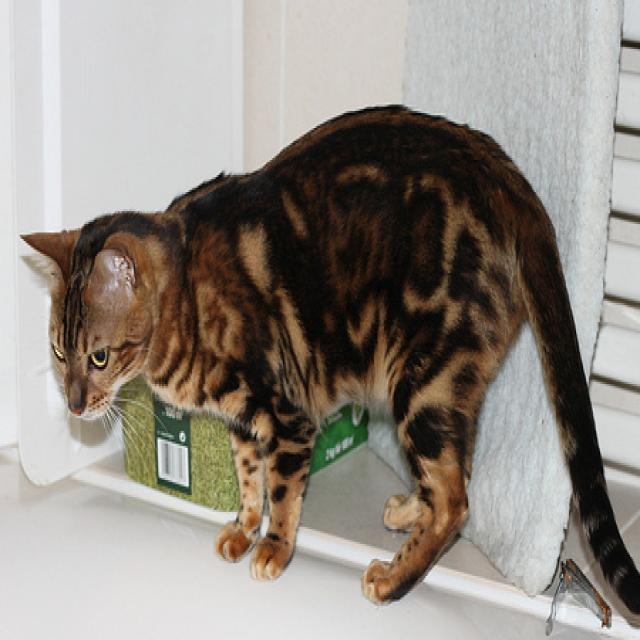Bengal: (17, 87, 640, 636)
